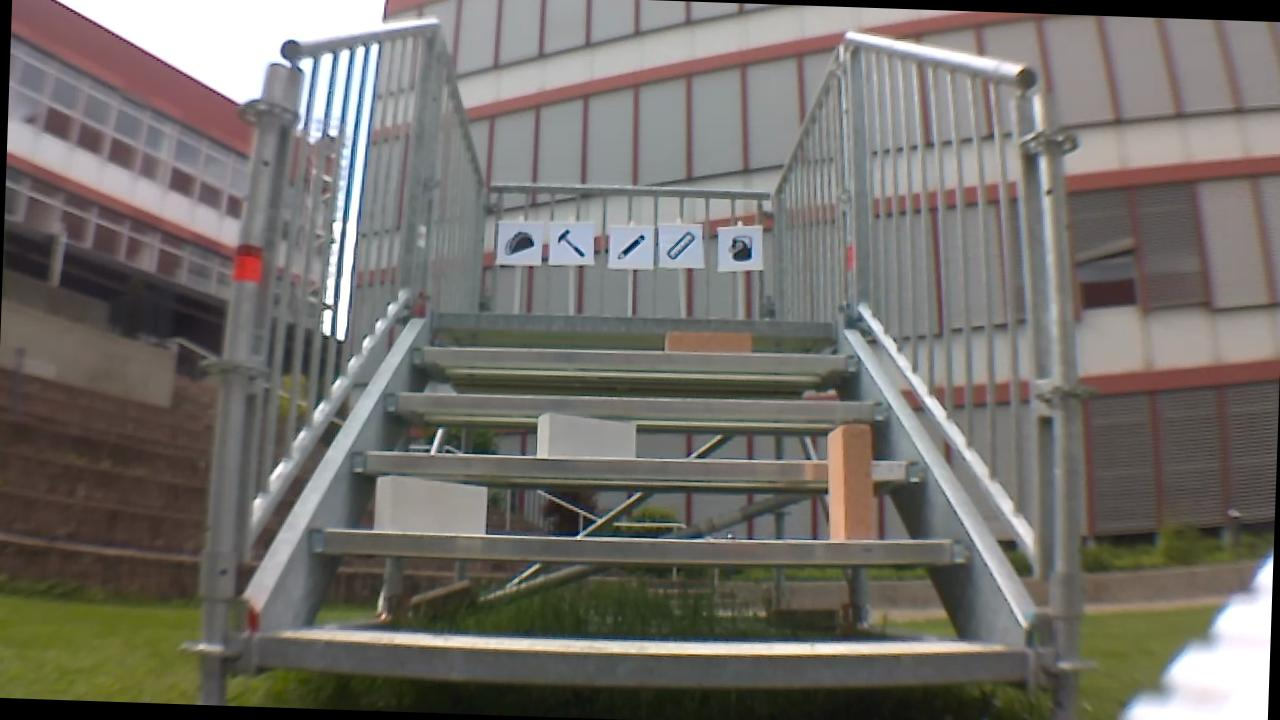brick: (373, 476, 484, 533), (824, 424, 874, 540), (535, 415, 633, 458), (665, 328, 749, 351)
bucket: (722, 232, 756, 262)
edge: (254, 621, 1025, 699), (308, 519, 977, 574), (351, 442, 931, 489), (384, 384, 888, 427), (407, 339, 861, 376), (430, 306, 834, 341)
hammer: (552, 225, 589, 262)
pencil: (613, 228, 647, 262)
ruler: (660, 228, 696, 259)
stairs: (182, 10, 1105, 720)
steps: (252, 296, 1049, 720)
taco: (502, 228, 537, 260)
